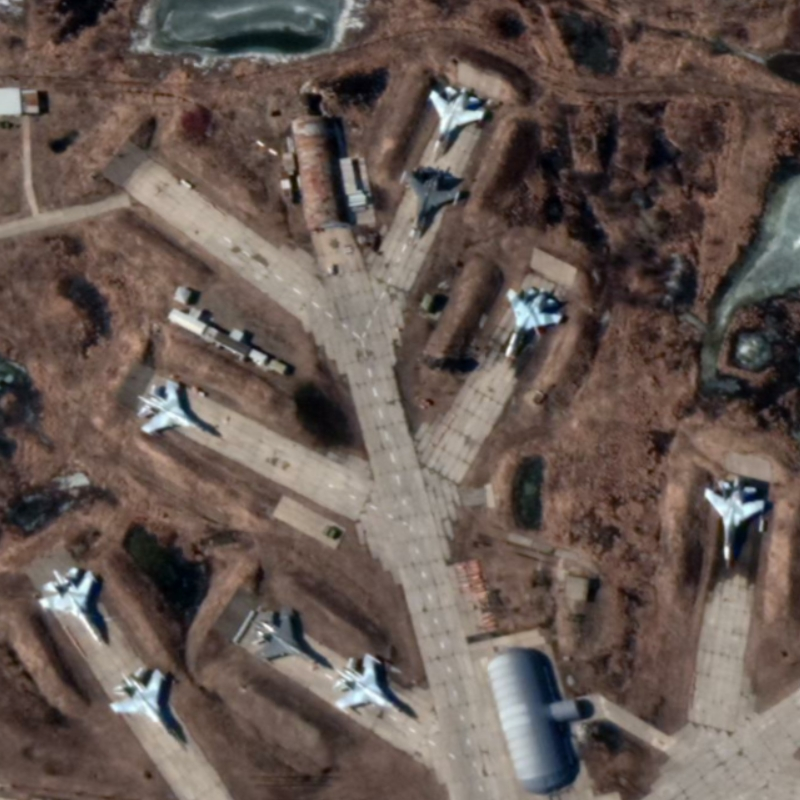A1: (106, 665, 184, 746), (702, 475, 767, 571), (330, 651, 416, 721), (36, 565, 108, 648), (249, 606, 329, 671), (134, 378, 217, 437), (397, 167, 462, 240), (504, 285, 565, 360), (427, 84, 487, 154)
